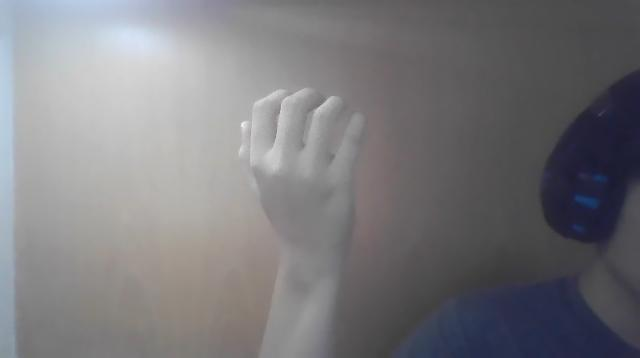backword: (237, 86, 367, 276)
